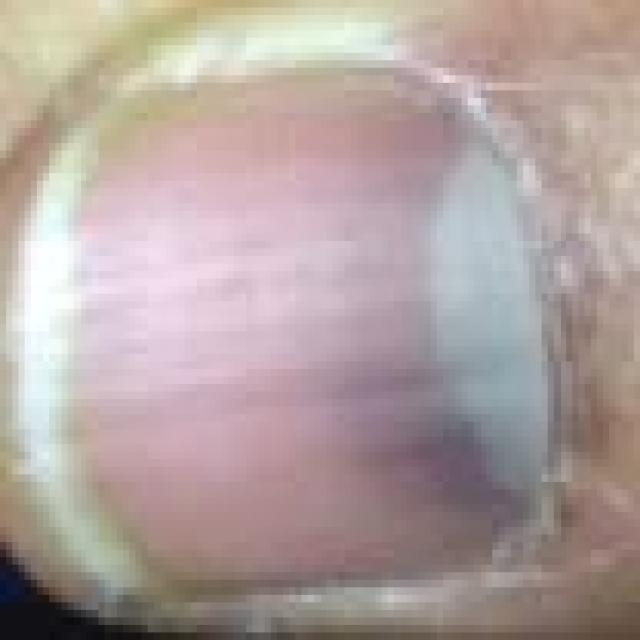Nail: (15, 66, 559, 609)
